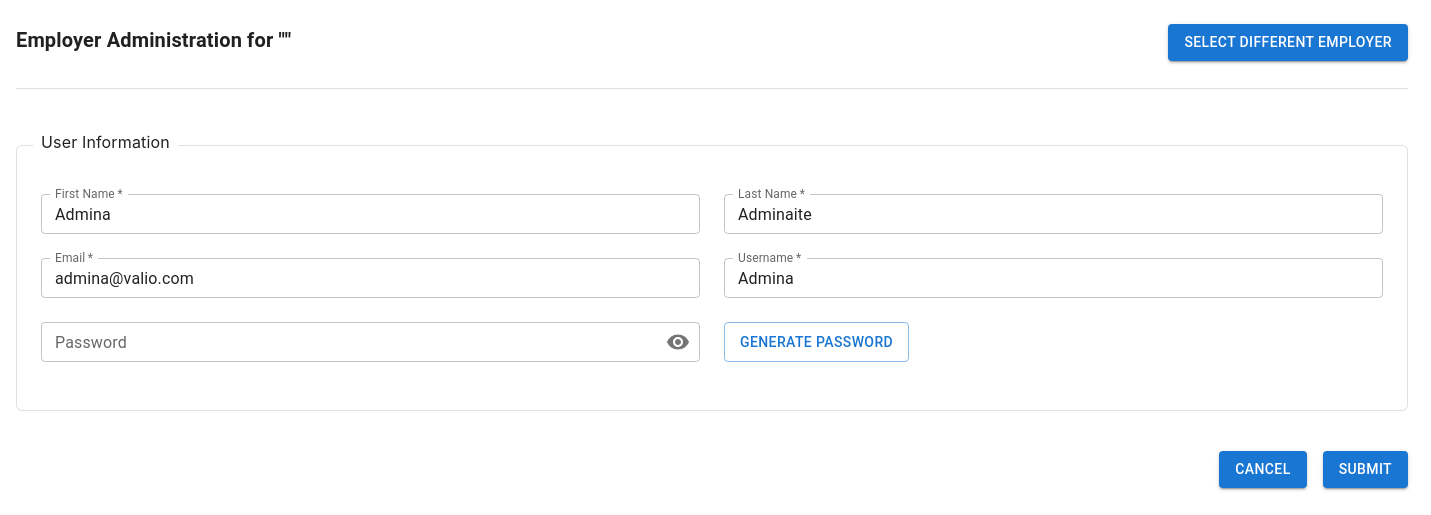
Test: Manage users with role employer form › should show an alert with confirmation message if data was successfully sent
The image size is (1431, 515).
Replace the text in the field labelled "First Name *" with "Useris" at [370, 214], box [41, 194, 700, 234]
Replace the text in the field labelled "Last Name *" with "Userauskas" at [1054, 214], box [724, 194, 1383, 234]
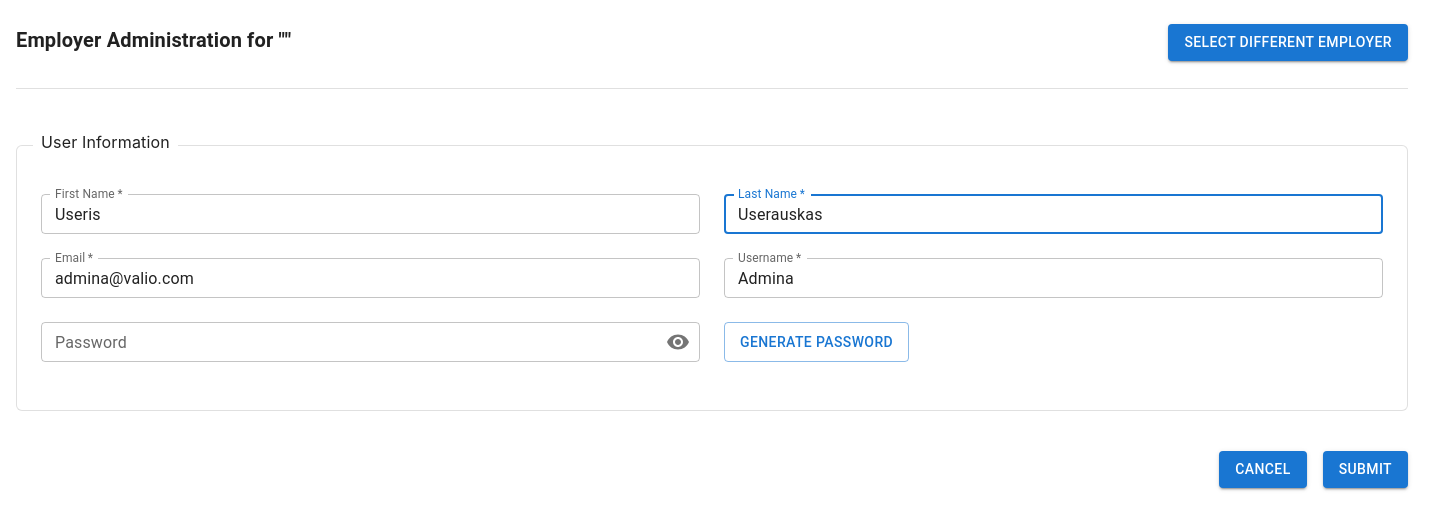
Replace the text in the field labelled "Email *" with "Userauskas@gmail.com" at [370, 278], box [41, 258, 700, 298]
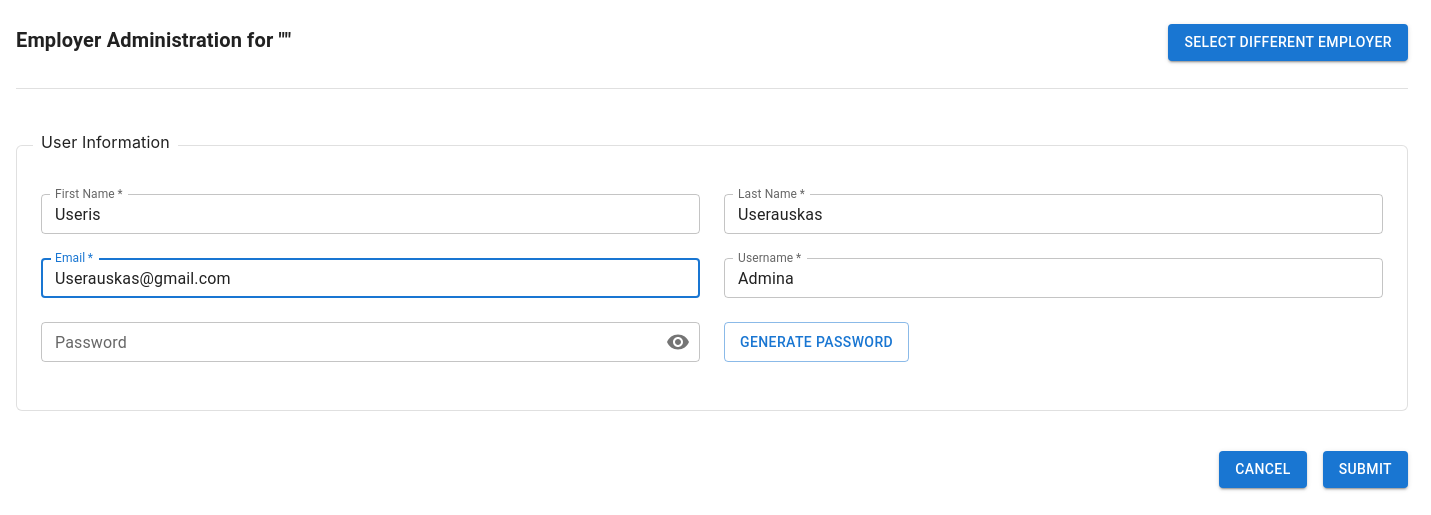
Replace the text in the field labelled "Username *" with "Userauskasss" at [1054, 278], box [724, 258, 1383, 298]
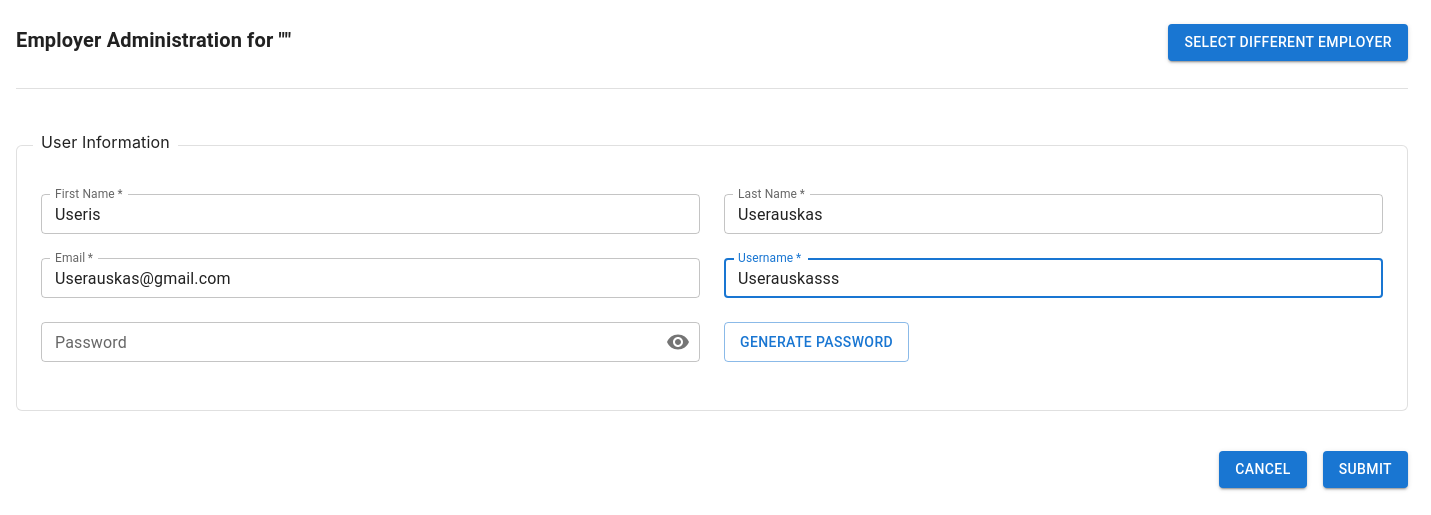
Type "User@1234" into the password field labelled "Password" at [346, 342], box [41, 322, 650, 362]
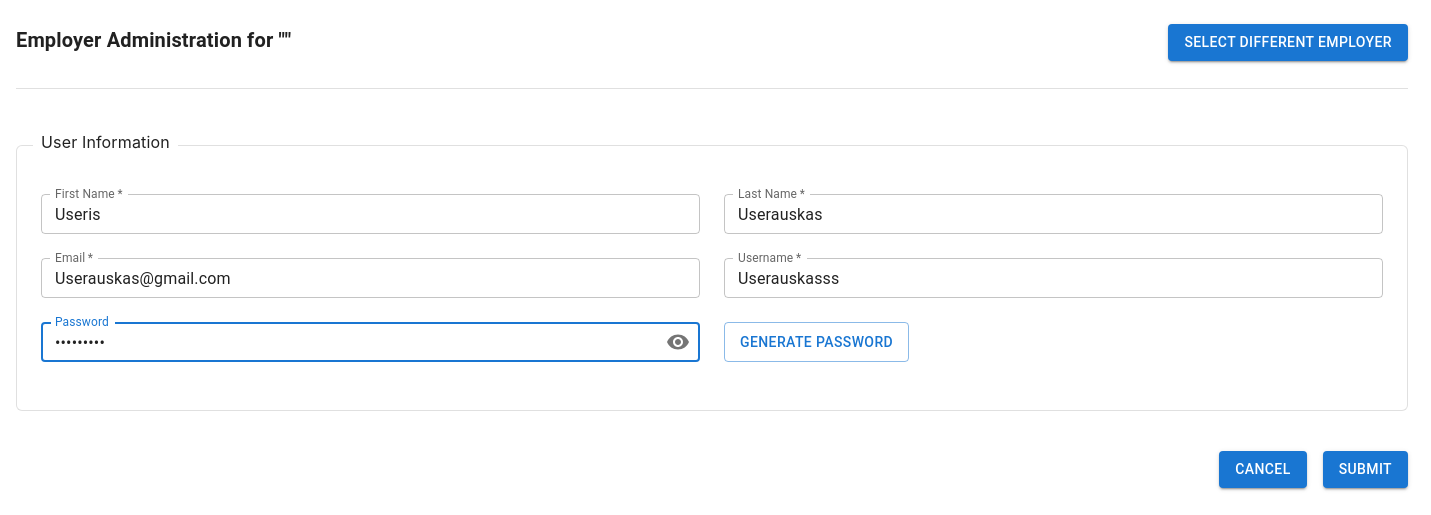
Click the button "Submit" at [1365, 469], box [1323, 451, 1408, 488]
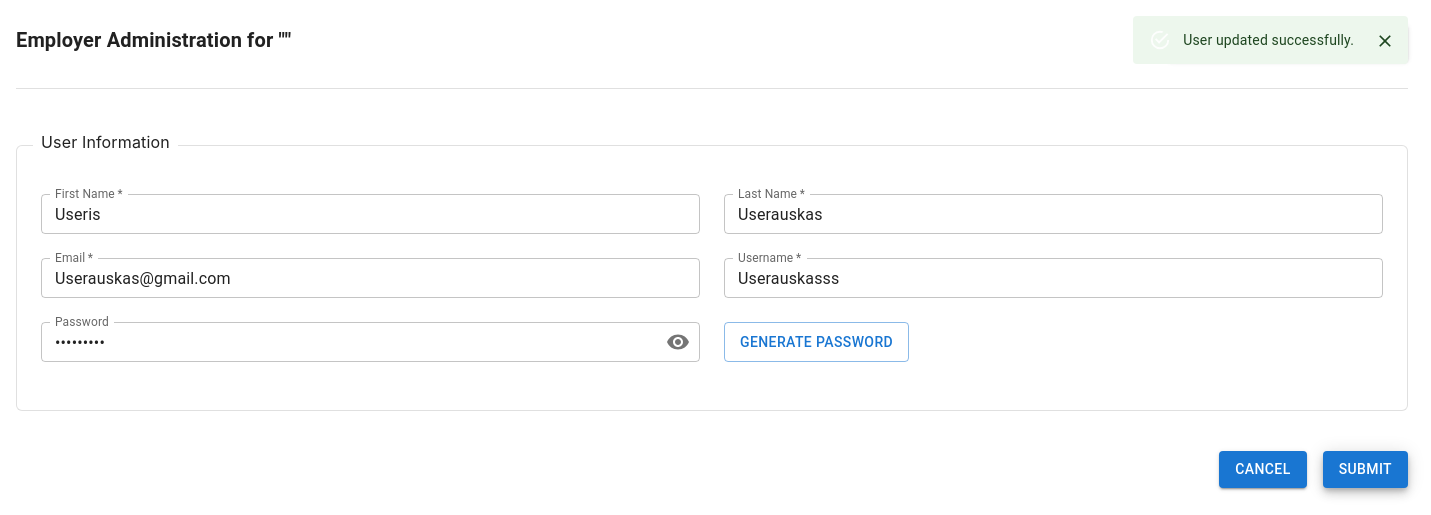
expect the message "User updated successfully." is shown: met, box [1133, 16, 1408, 64]
expect the text "User updated successfully." is shown: met, box [1183, 32, 1354, 48]
expect the button named "Close" is shown: met
Click the button named "Close" at [1385, 41], box [1370, 26, 1400, 56]
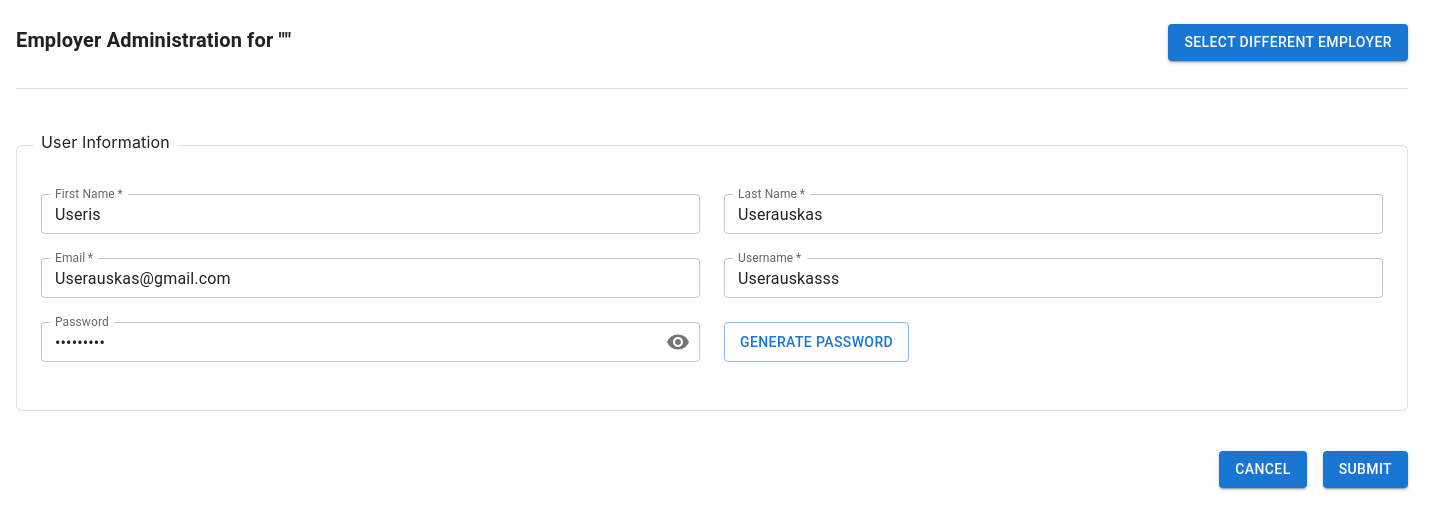
expect the message "User updated successfully." is gone: met
